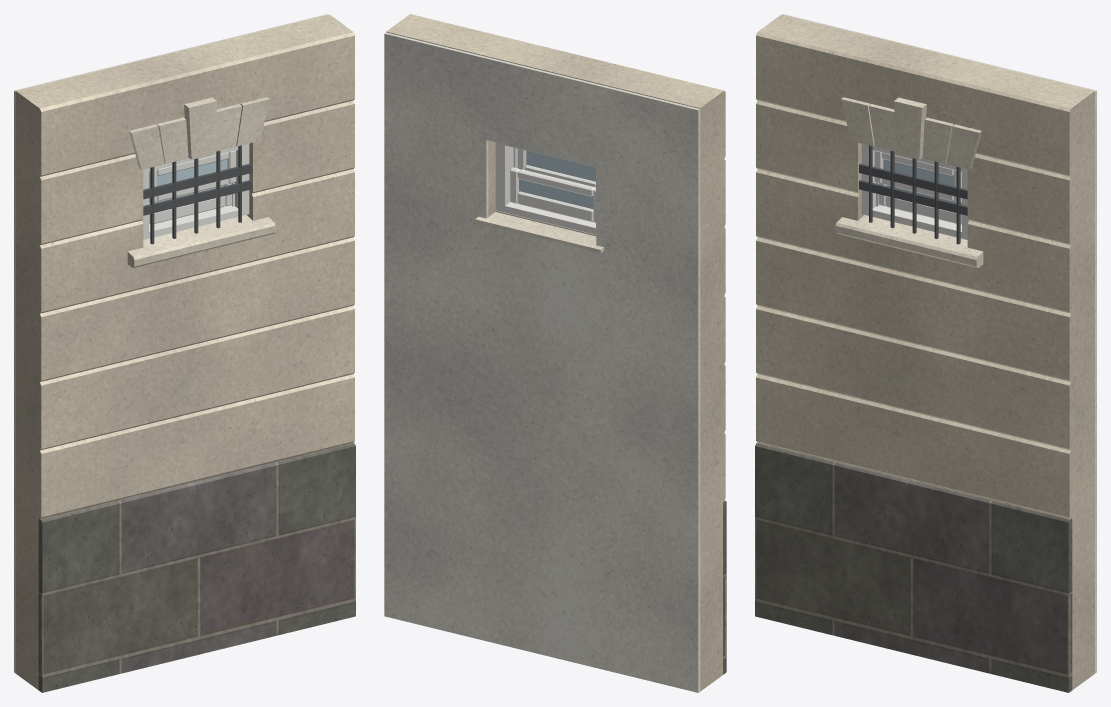
Rendered from g_wall_cell.glb.
3 renders of one model, left to right at view 1: azimuth 30°, elevation 25°; view 2: azimuth 150°, elevation 25°; view 3: azimuth 330°, elevation 25°, orthographic.
Visible parts, largest first — view 1: g_wall_cell_rust, g_wall_cell_plinth, g_wall_cell_trim, g_wall_cell_iron, g_wall_cell_frame, g_wall_cell_sash, g_wall_cell_plaster, g_wall_cell_glass; view 2: g_wall_cell_plaster, g_wall_cell_rust, g_wall_cell_sash, g_wall_cell_frame, g_wall_cell_trim, g_wall_cell_glass, g_wall_cell_plinth; view 3: g_wall_cell_rust, g_wall_cell_plinth, g_wall_cell_trim, g_wall_cell_iron, g_wall_cell_frame, g_wall_cell_sash, g_wall_cell_plaster, g_wall_cell_glass.
Boxes of the visible parts, <box> form: g_wall_cell_rust: <box>16,14,354,689</box>; g_wall_cell_plinth: <box>38,442,355,692</box>; g_wall_cell_trim: <box>127,97,275,267</box>; g_wall_cell_iron: <box>143,145,251,244</box>; g_wall_cell_frame: <box>142,143,249,239</box>; g_wall_cell_sash: <box>149,150,236,224</box>; g_wall_cell_plaster: <box>14,14,328,673</box>; g_wall_cell_glass: <box>149,159,227,203</box>; g_wall_cell_plaster: <box>384,32,700,692</box>; g_wall_cell_rust: <box>386,14,725,691</box>; g_wall_cell_sash: <box>510,148,595,222</box>; g_wall_cell_frame: <box>495,142,596,234</box>; g_wall_cell_trim: <box>475,210,604,253</box>; g_wall_cell_glass: <box>519,151,595,208</box>; g_wall_cell_plinth: <box>723,500,726,674</box>; g_wall_cell_rust: <box>756,14,1094,689</box>; g_wall_cell_plinth: <box>755,442,1072,692</box>; g_wall_cell_trim: <box>835,97,983,267</box>; g_wall_cell_iron: <box>859,145,967,244</box>; g_wall_cell_frame: <box>861,143,968,239</box>; g_wall_cell_sash: <box>874,150,961,224</box>; g_wall_cell_plaster: <box>782,14,1096,673</box>; g_wall_cell_glass: <box>883,159,961,203</box>.
Bounding box in the file's own units: 2 × 3.55 × 0.415.
8 materials, 4 textured.
